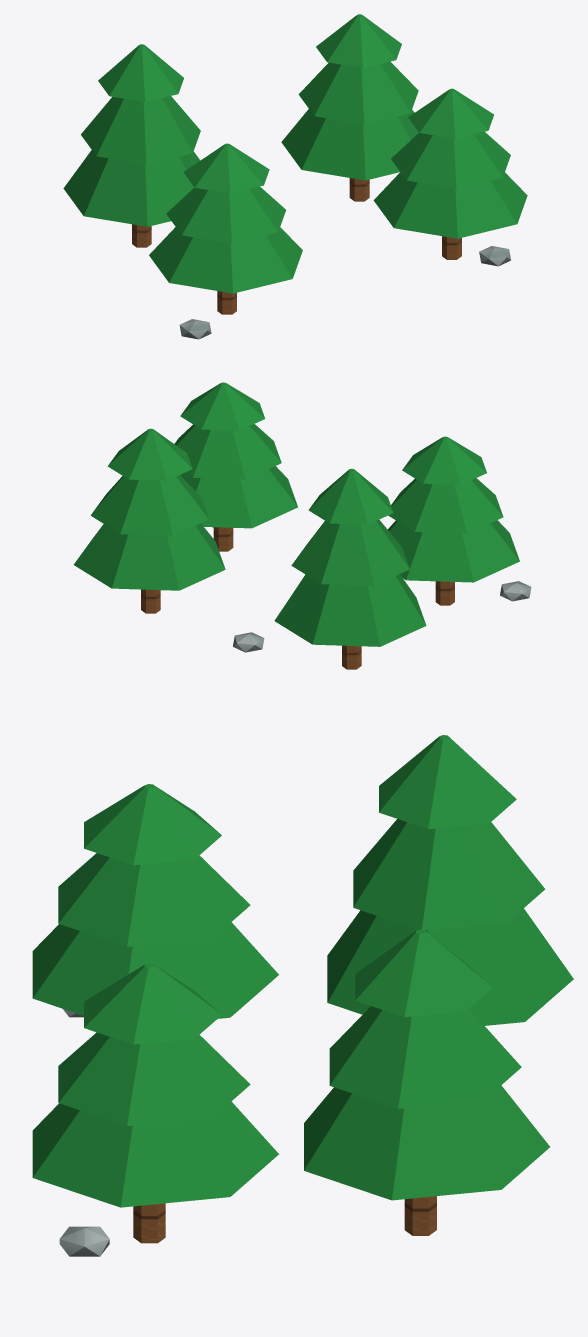
File: forest-island-3x2.glb
3 views of the same model, one above another, from view 1: azimuth 30°, elevation 25°; view 2: azimuth 150°, elevation 25°; view 3: azimuth 270°, elevation 25° (orthographic). The views are drawn at different scales.
Visible parts, largest first — view 1: forest-island-3x2; view 2: forest-island-3x2; view 3: forest-island-3x2.
Part boxes in pixels (box(x1,y1,x2,y2)): forest-island-3x2: box(63, 14, 527, 339); forest-island-3x2: box(73, 382, 531, 669); forest-island-3x2: box(32, 735, 573, 1256).
Bounding box in the file's own units: 2.85 × 1.22 × 1.9.
Materials: 1 (1 with a texture image).
